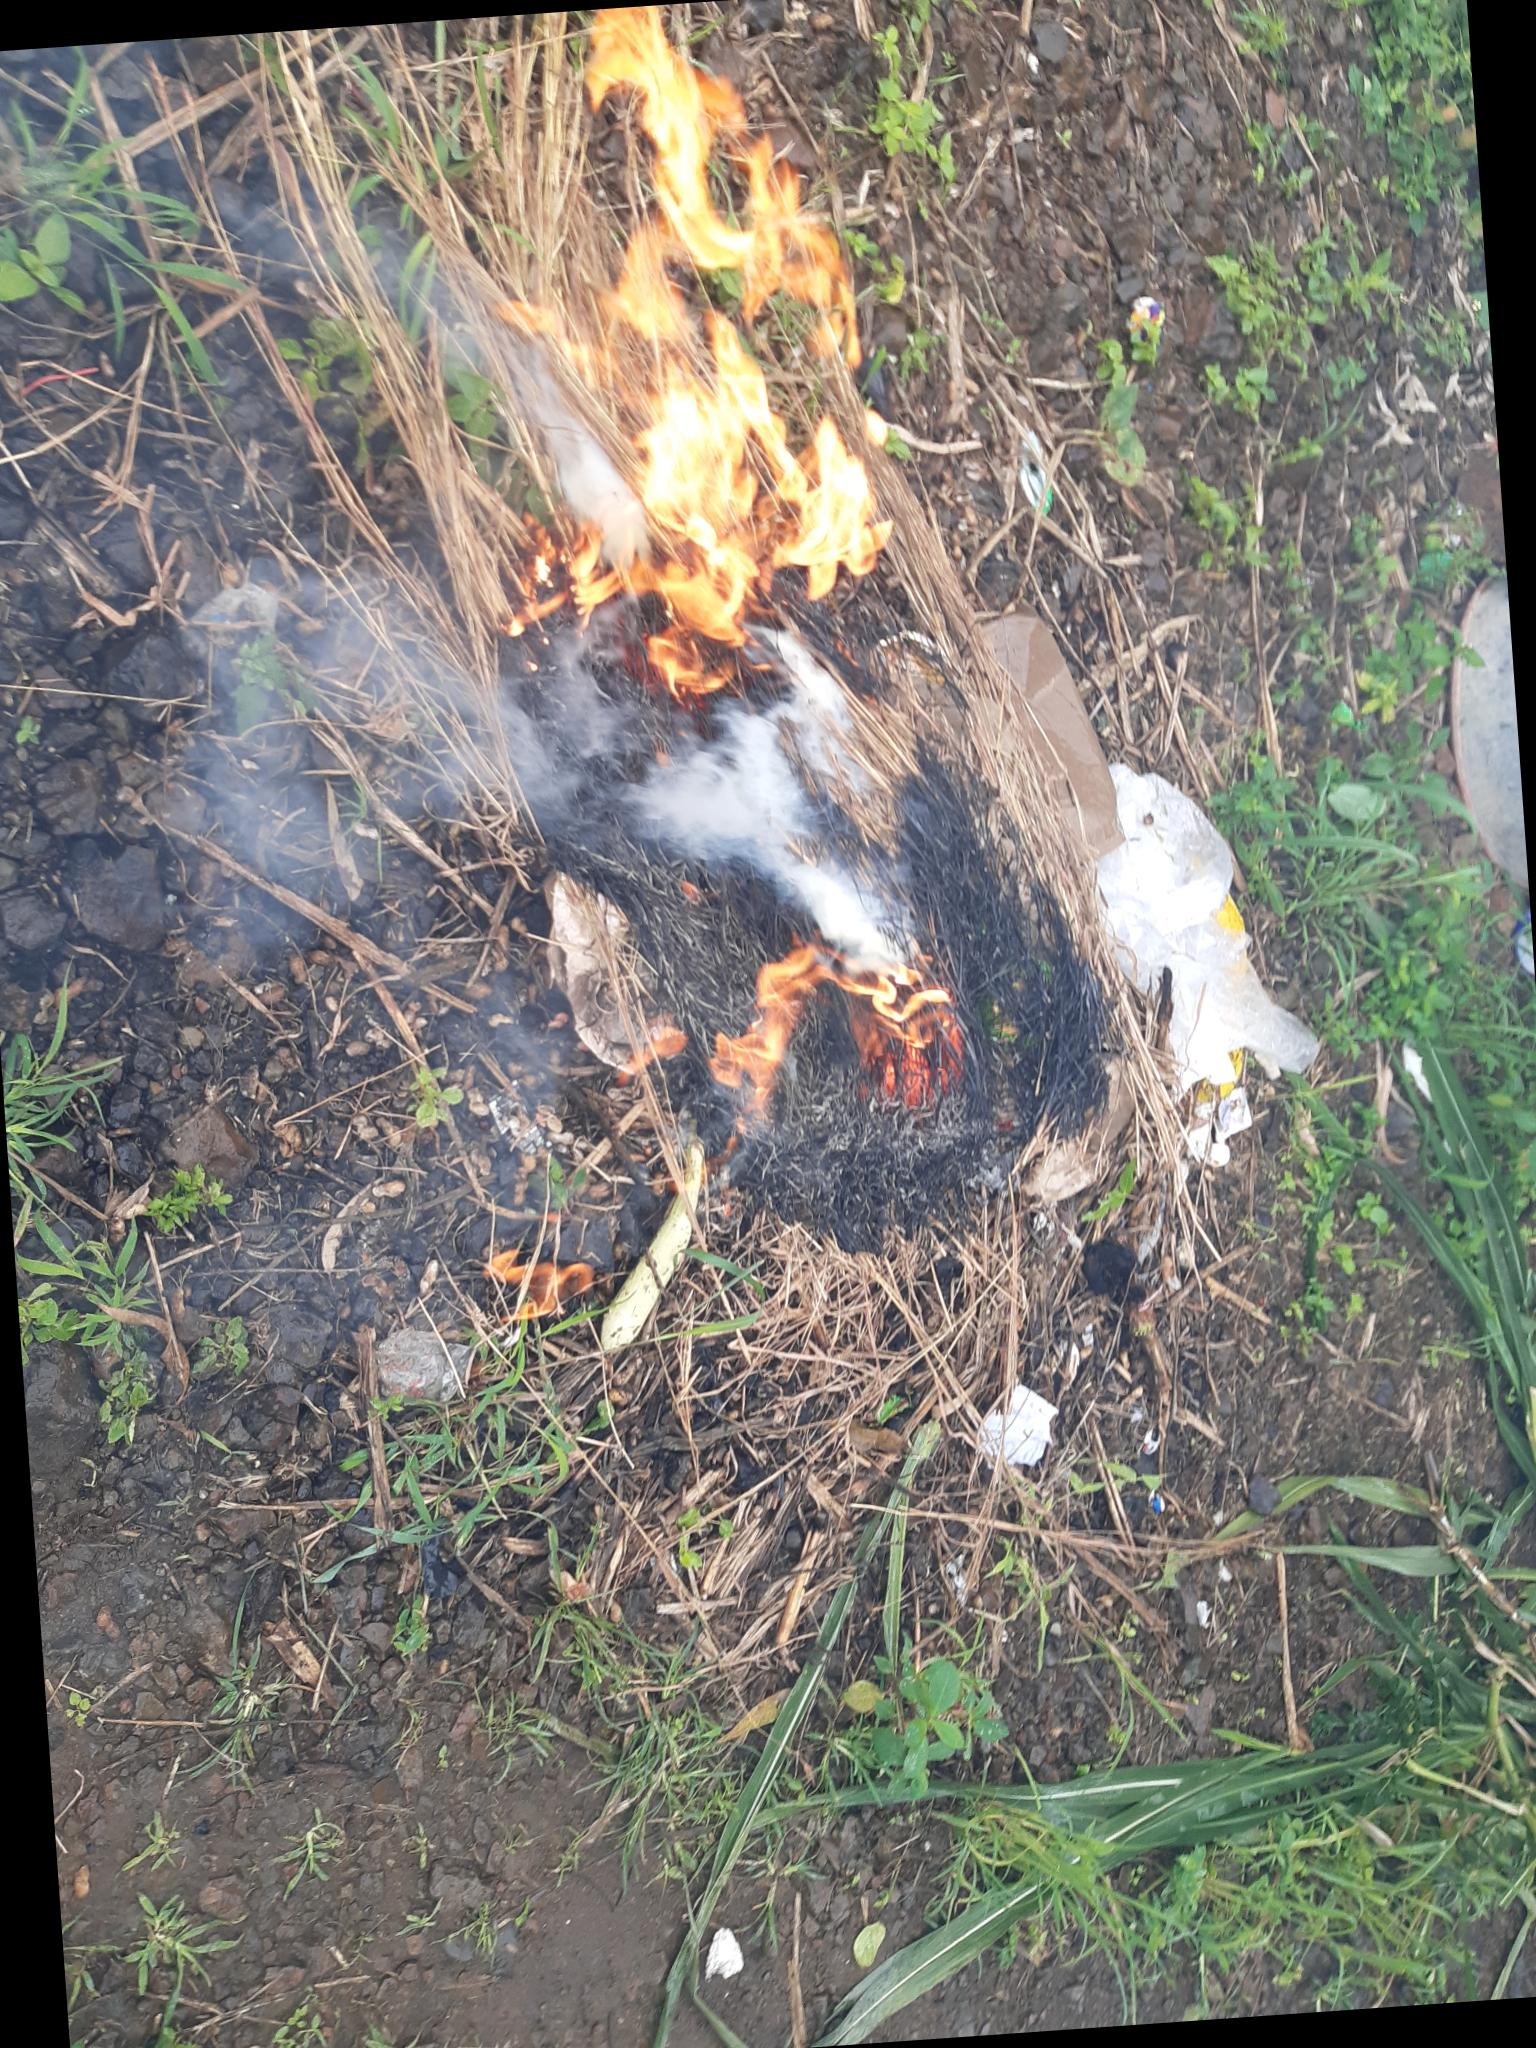Fire: (465, 0, 904, 711)
Smoke: (195, 561, 629, 918), (644, 684, 920, 987)
